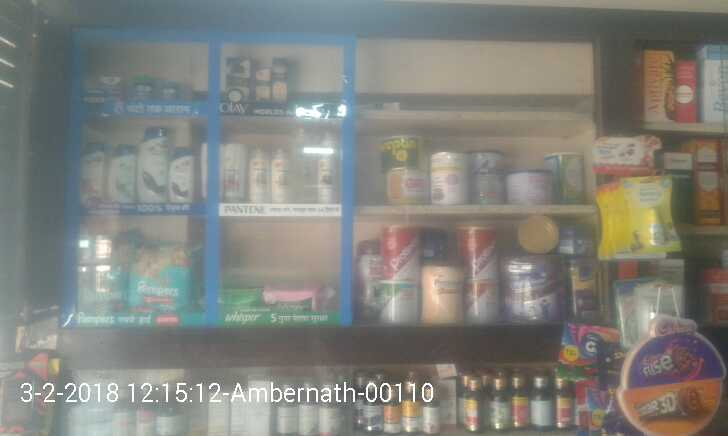beauty: (135, 126, 167, 208), (109, 138, 140, 209), (165, 144, 199, 208), (215, 140, 246, 205), (80, 140, 107, 208), (221, 51, 249, 105), (269, 52, 288, 113), (249, 146, 267, 207), (274, 150, 294, 198), (316, 162, 334, 208), (255, 59, 268, 108)
pharmacy: (128, 238, 196, 317), (147, 74, 188, 103), (128, 68, 152, 103)
